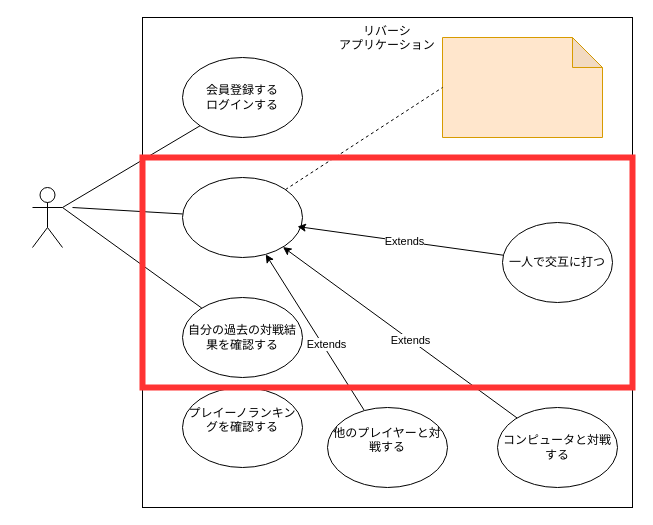
The diagram is 653 pixels wide and 525 high, and some of its shapes have lost their labels. Here are the shapes that lost their labels. From the top down, the centre of each, then its label:
At (522,87): "・対戦を開始する ・盤面を見る ・石を打つ ・勝敗を確認する".
At (47,217): "プレイヤー".
At (242,217): "対戦する".
